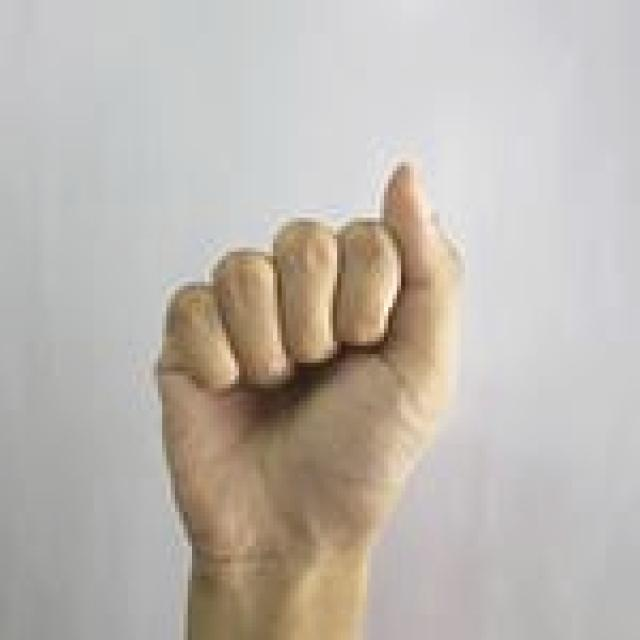A: (137, 142, 478, 640)
